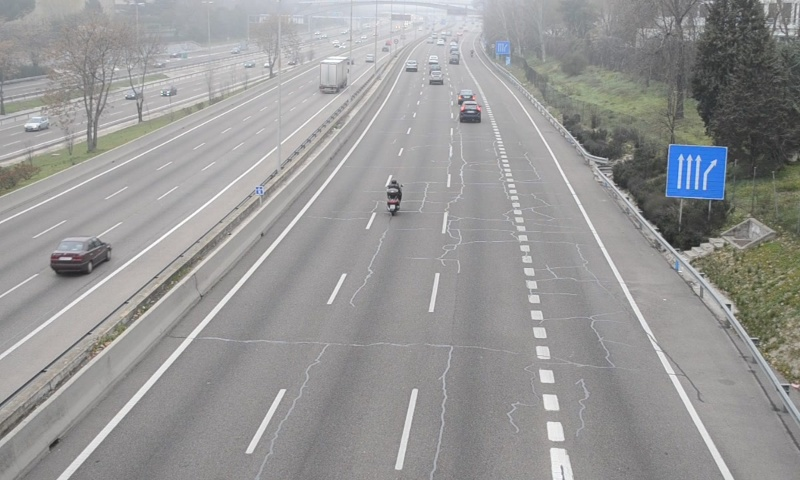car: (459, 100, 481, 122), (458, 89, 476, 102)
motorcycle: (385, 178, 402, 216)
